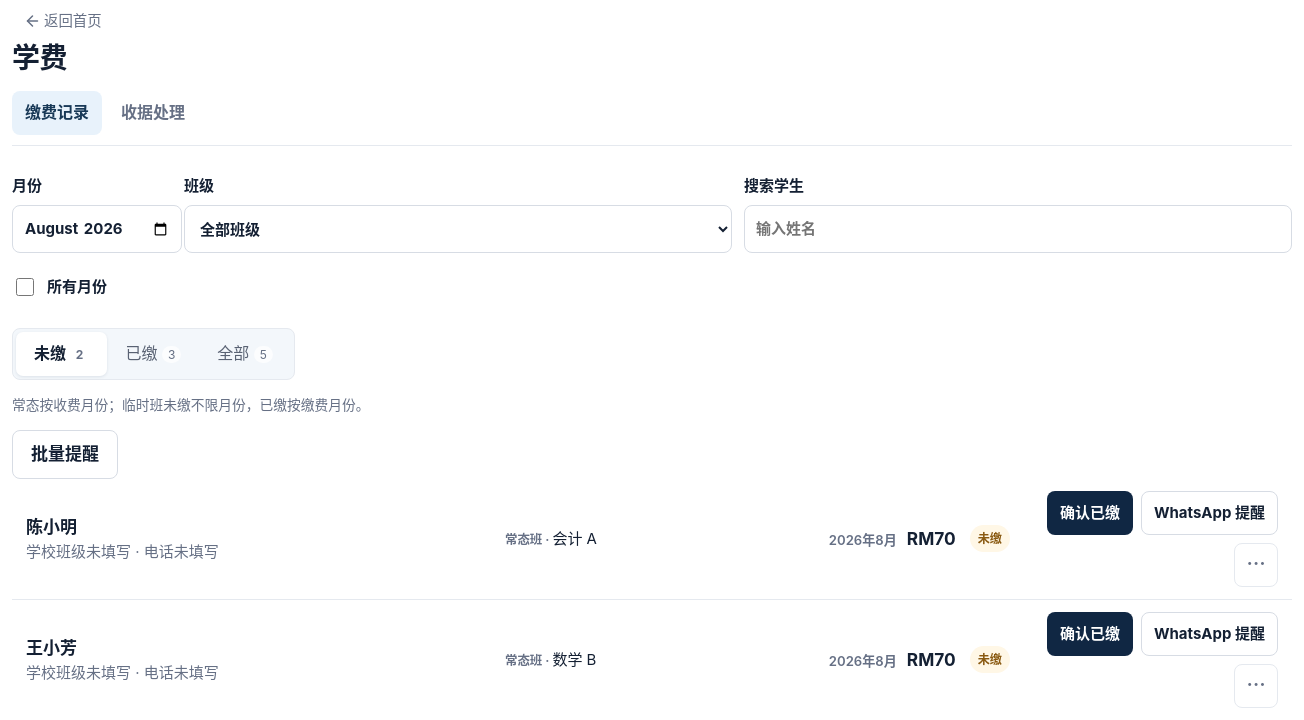
it: MonthlyFeesPage workflow › keeps class and status filters in the URL and shows paid receipt groups in order
The image size is (1304, 720).
Check: the text "陈小明" is shown, box [26,517,77,537]
Select "会计 A" in the dropdown labelled "班级": (458, 229) [184,205,732,253]
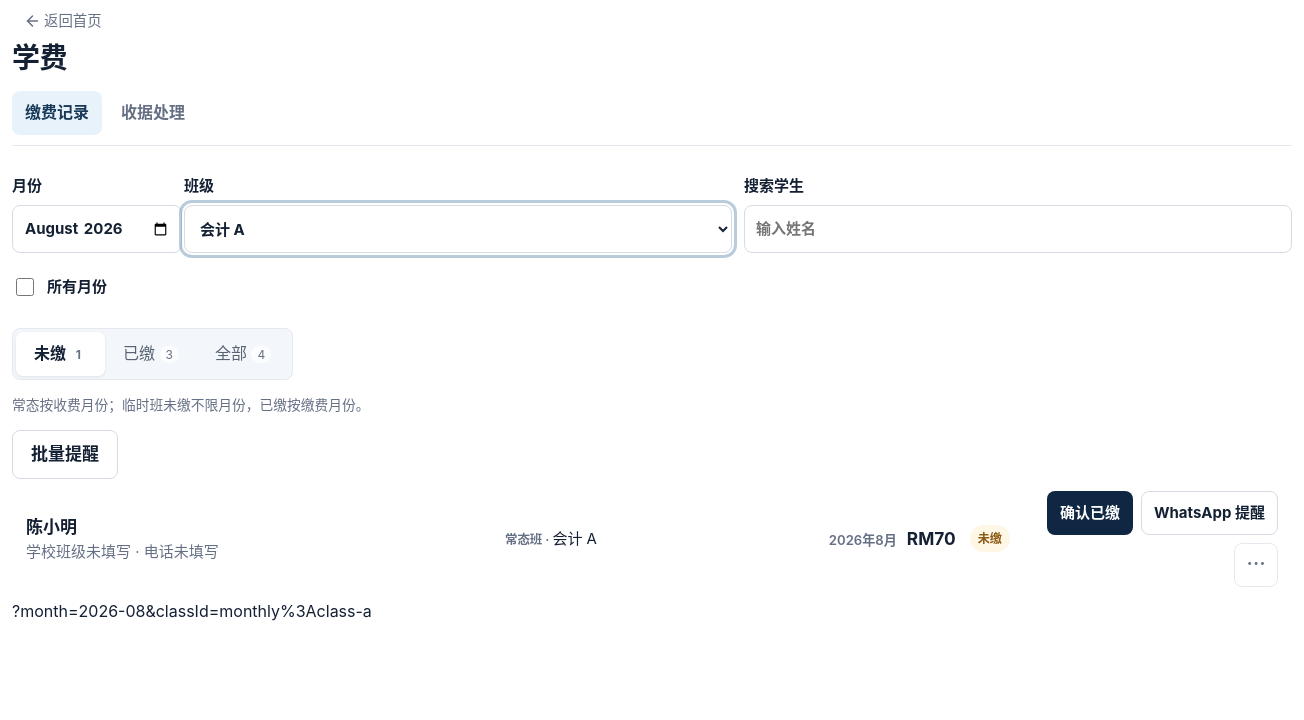
Check: the text with test id "location-search" shows "classId=monthly%3Aclass-a", box [12,601,372,621]
Click the button "已缴 3": (151, 354) [105,332,197,376]
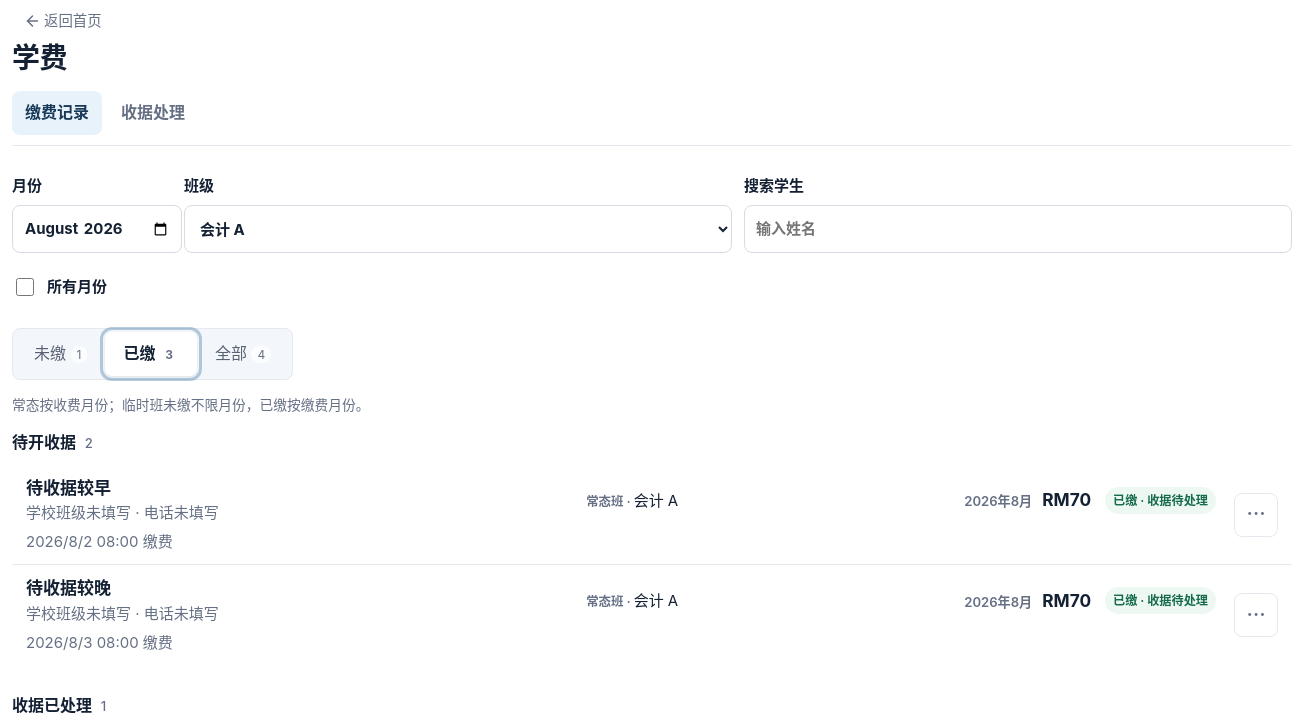
Check: the link "待收据较早 学校班级未填写 · 电话未填写" is shown, box [26,477,219,523]
Check: the link "待收据较晚 学校班级未填写 · 电话未填写" is shown, box [26,578,219,624]
Check: the heading "收据已处理 1" is shown, box [12,695,106,715]
